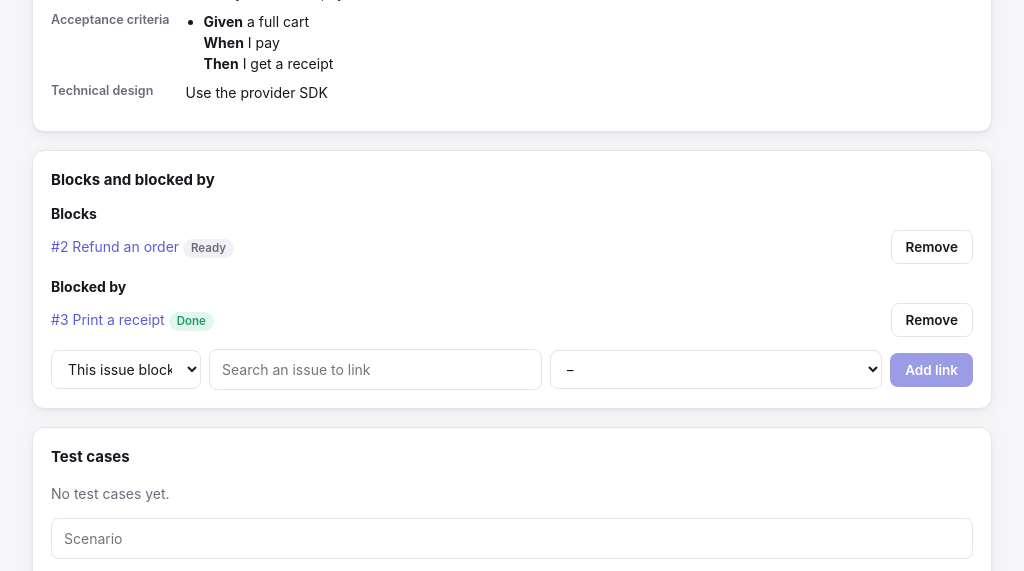
Test: blocks and blocked by › shows self_link as a notice and keeps the choice
(page scrolled)
Type "re" into the search field labelled "Search an issue to link" at (375, 370), box [209,349,542,390]
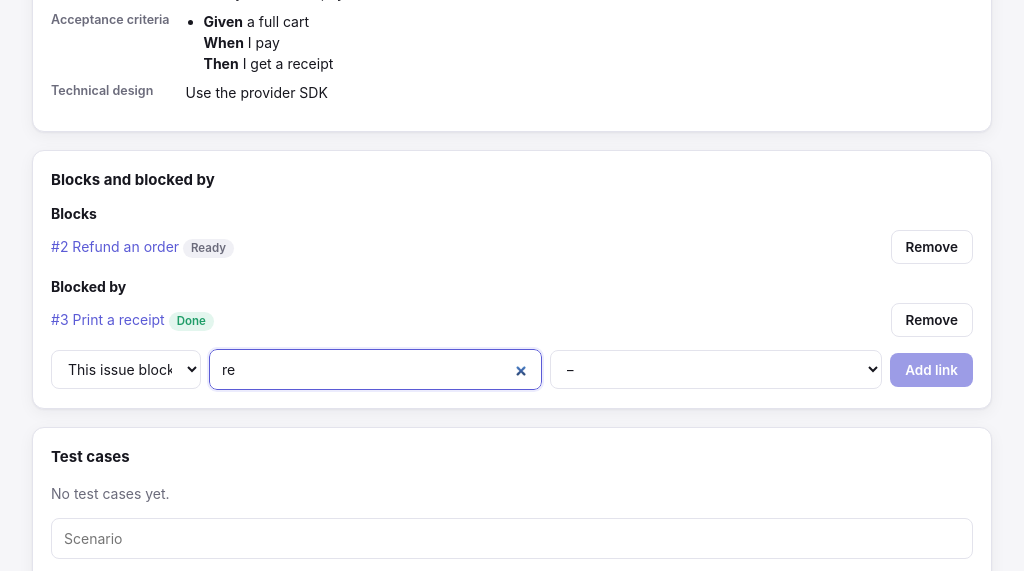
Select "#2 Refund an order" in the dropdown named "Issue to link" at (716, 370), box [550,350,882,389]
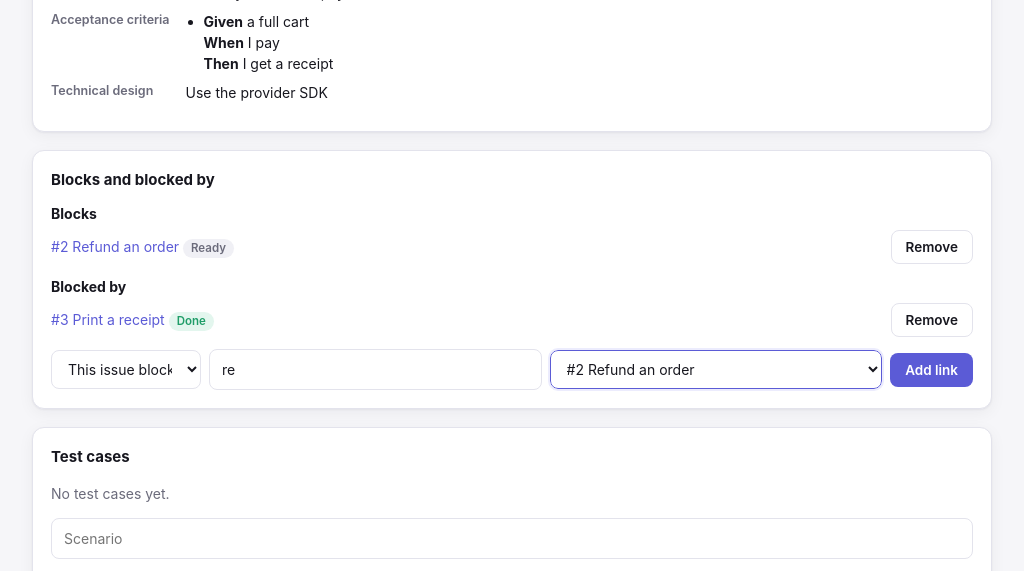
Click the button "Add link" at (932, 370), box [890,352,973,386]
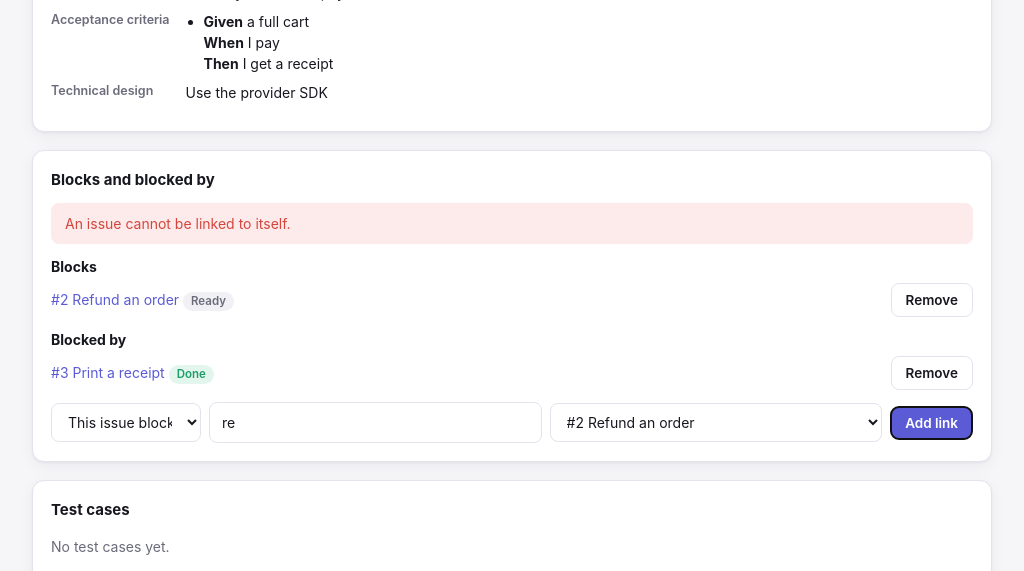
expect the text "An issue cannot be linked to itself." is shown: met, box [51,203,973,244]
